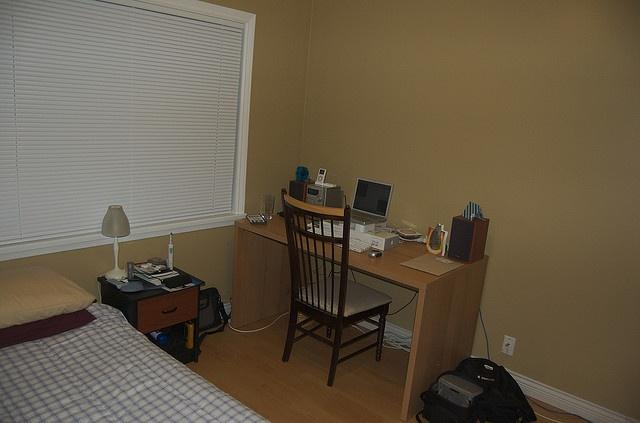Kursi: (279, 186, 392, 387)
Meja: (227, 203, 489, 420)
